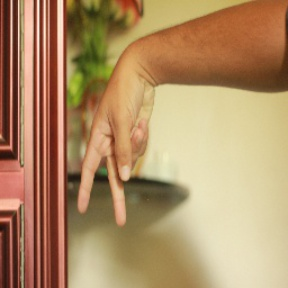Y: (77, 62, 159, 232)
